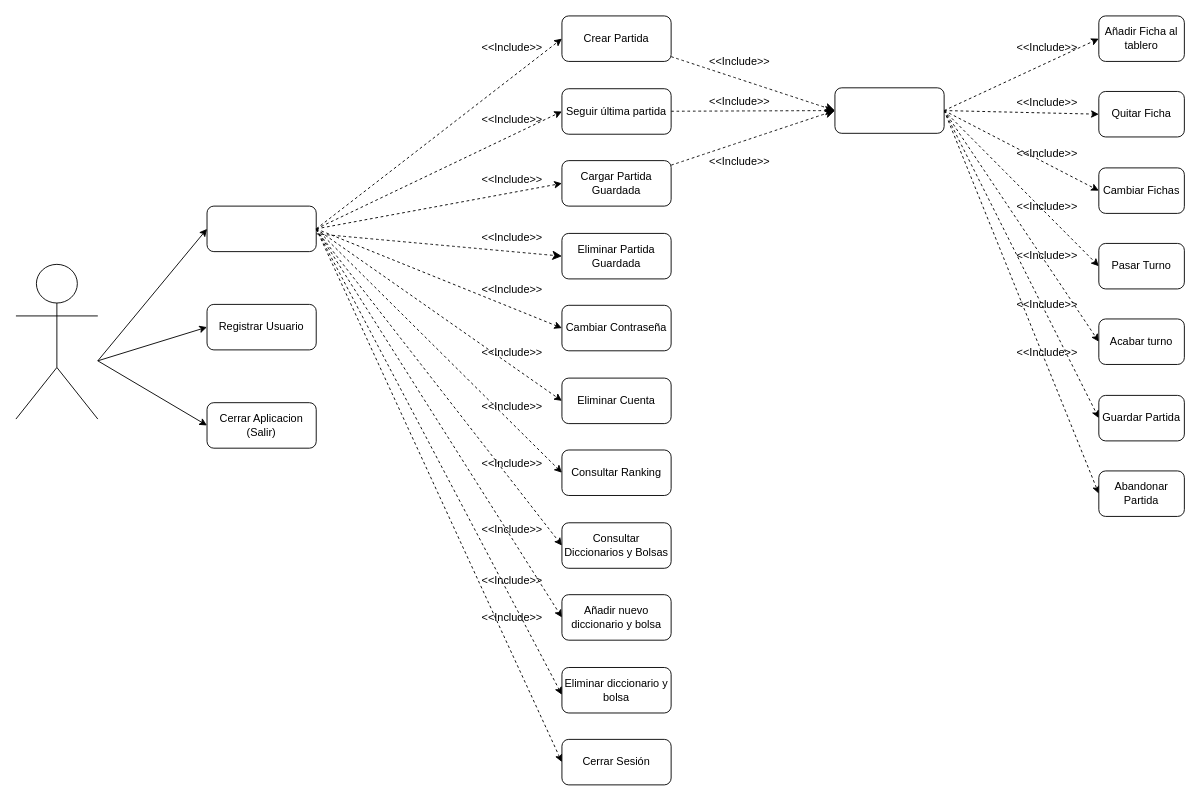
This 1200x801 diagram has some shape labels left out. The centre of each missing label's shape, as x and y in pixels:
"Iniciar Sesión" belongs at [261,228].
"Juego" belongs at [889,110].
"Usuario" belongs at [56,341].
